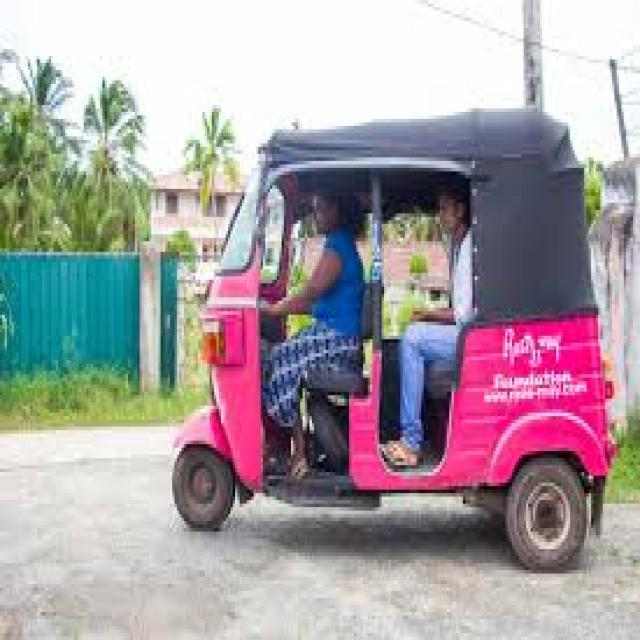tuktuk: (158, 68, 630, 568)
